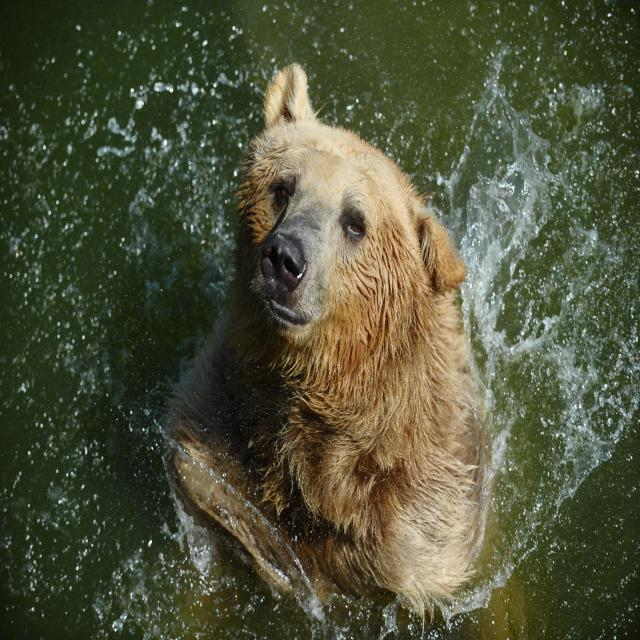Bear: (161, 64, 497, 619)
